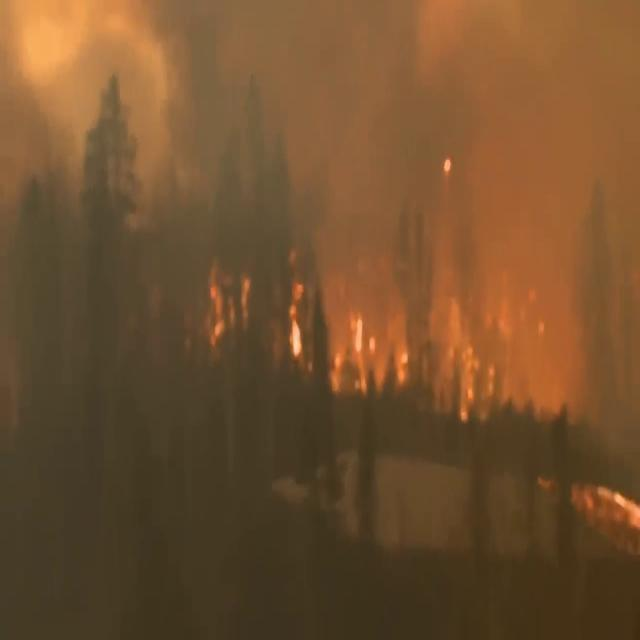Fire: (330, 292, 414, 400), (202, 258, 252, 352), (284, 270, 310, 366)
Smoke: (9, 1, 640, 378)
